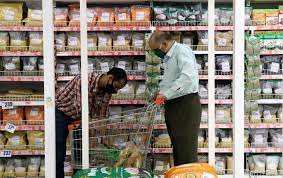person: (149, 35, 173, 59), (104, 70, 127, 94)
